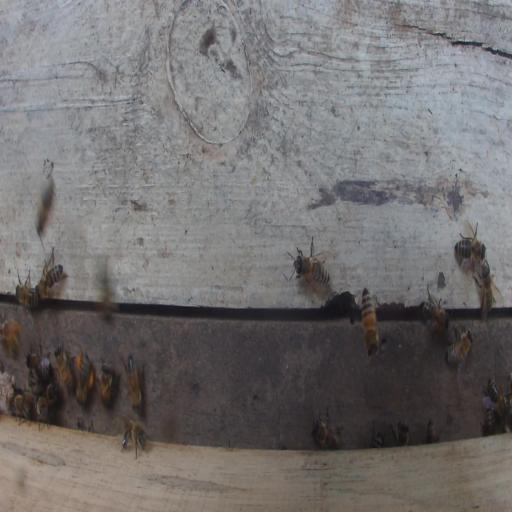bee: (360, 286, 380, 358), (454, 220, 485, 265), (119, 416, 148, 459), (418, 296, 449, 336), (32, 264, 65, 300), (445, 327, 474, 367), (37, 173, 54, 236), (15, 267, 39, 311), (310, 418, 342, 451), (54, 345, 74, 396), (295, 254, 329, 284), (125, 352, 142, 411), (76, 353, 94, 404), (1, 316, 22, 359), (487, 378, 509, 419), (478, 265, 495, 314), (98, 360, 114, 407), (26, 351, 50, 379), (10, 394, 31, 419), (35, 394, 49, 428), (482, 408, 498, 435), (45, 380, 60, 406), (24, 372, 36, 404), (397, 421, 410, 447), (426, 420, 440, 443), (371, 431, 386, 448)
